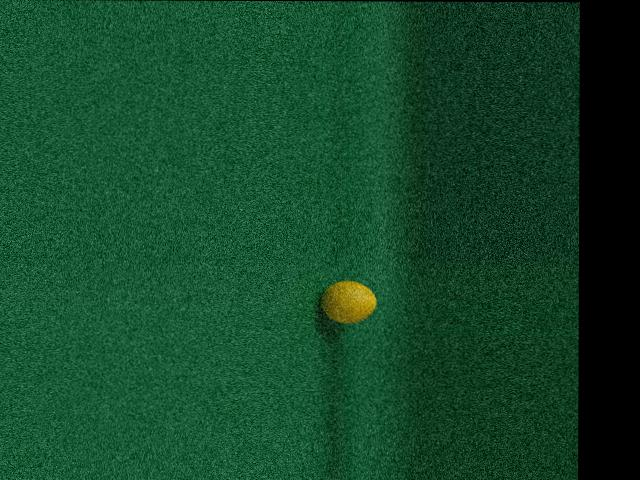egg: (320, 279, 377, 321)
